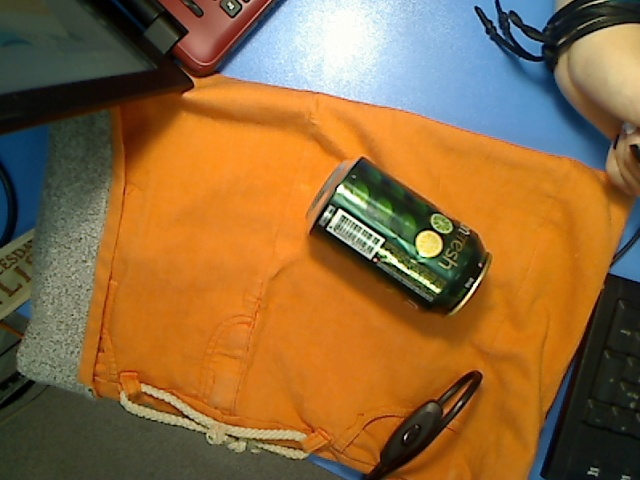can: (304, 155, 496, 318)
